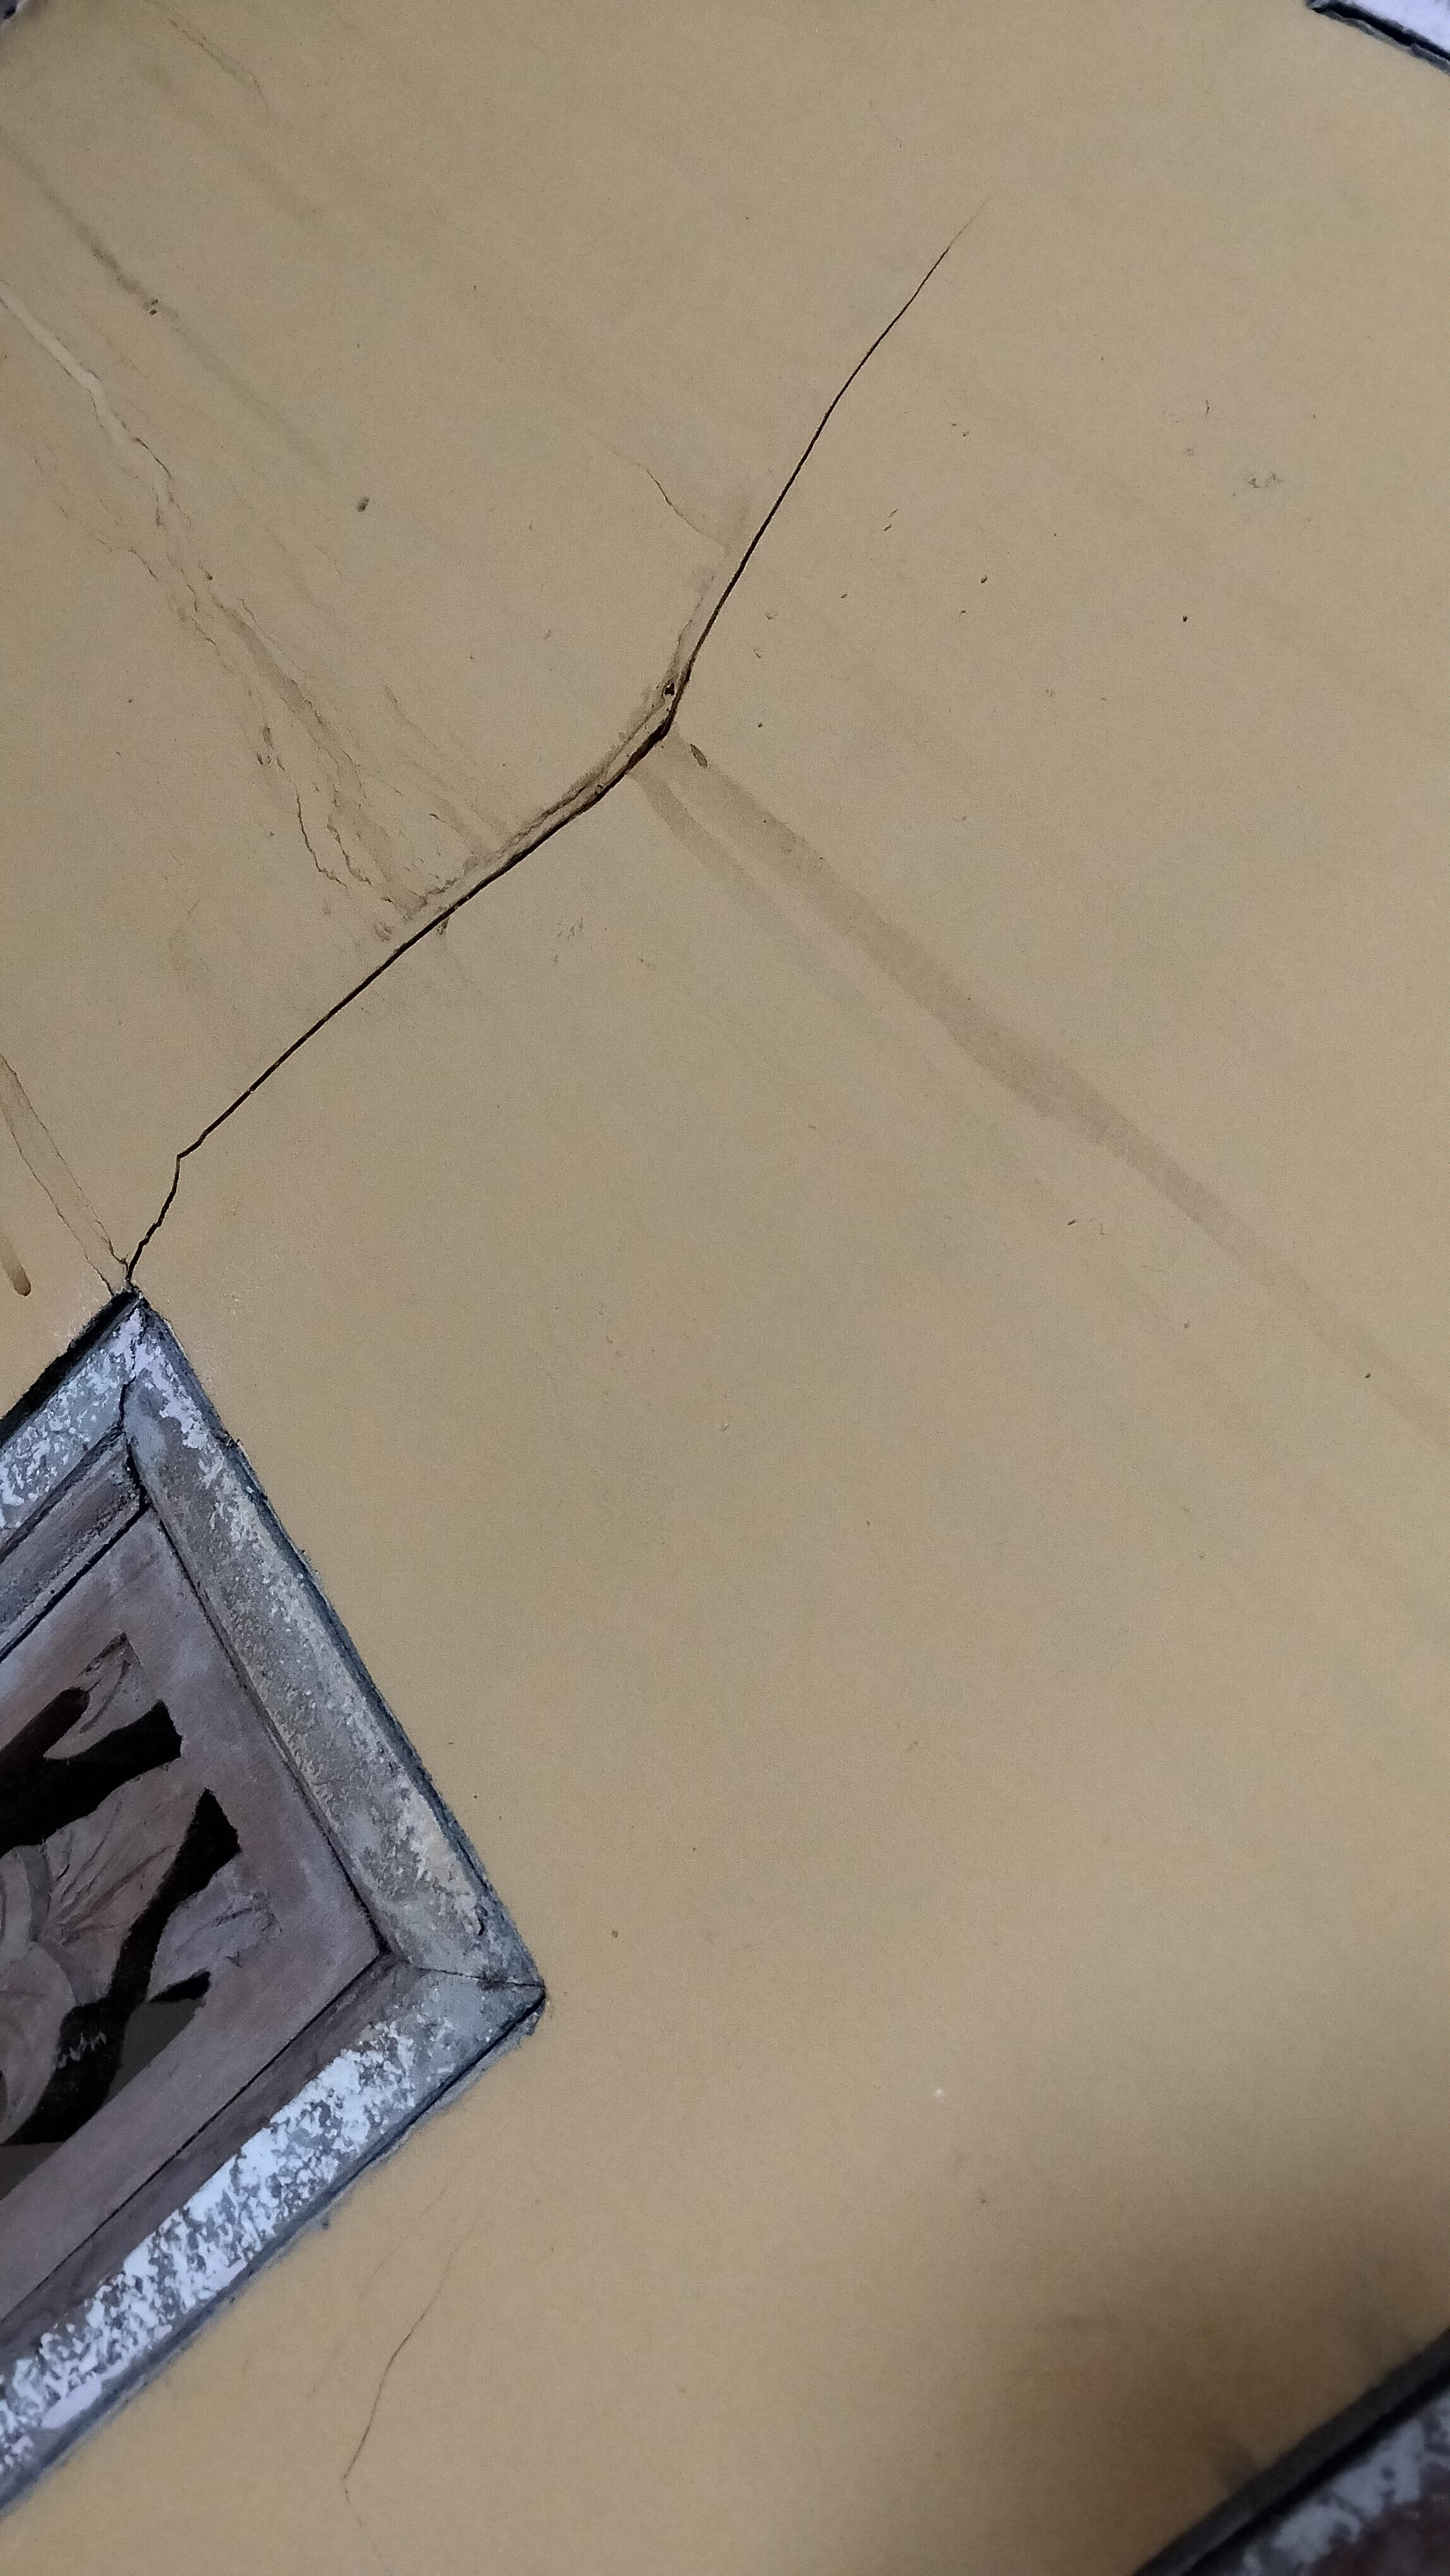Crack: (110, 207, 1034, 1300)
